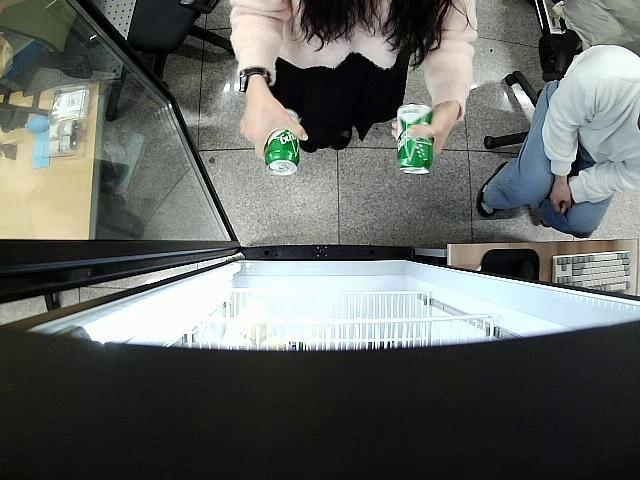12_chilsungCider: (395, 103, 435, 176), (262, 108, 302, 176)
